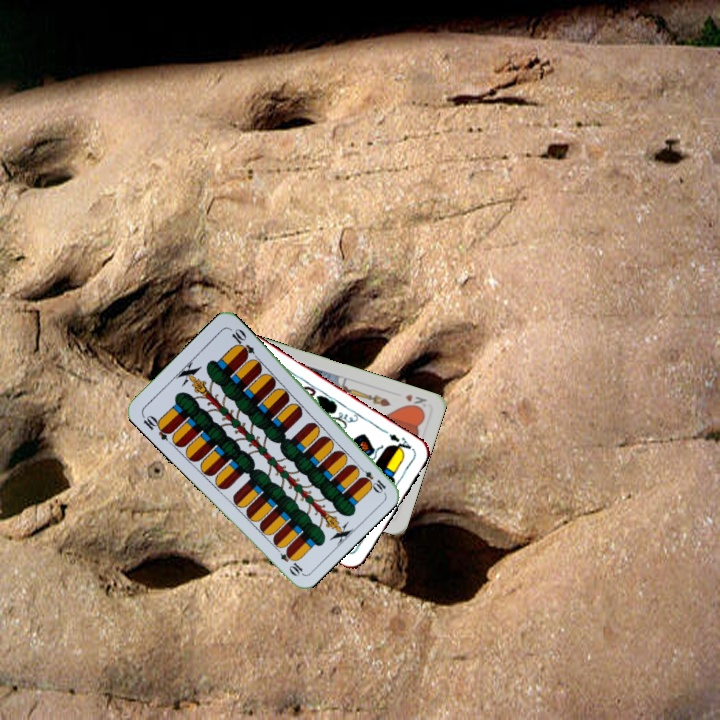E10: (138, 411, 174, 443), (354, 462, 388, 495)
EA: (385, 430, 416, 455)
HK: (401, 390, 430, 413)
